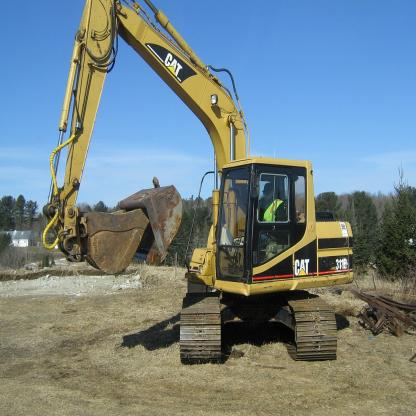excavator: (38, 0, 363, 376)
